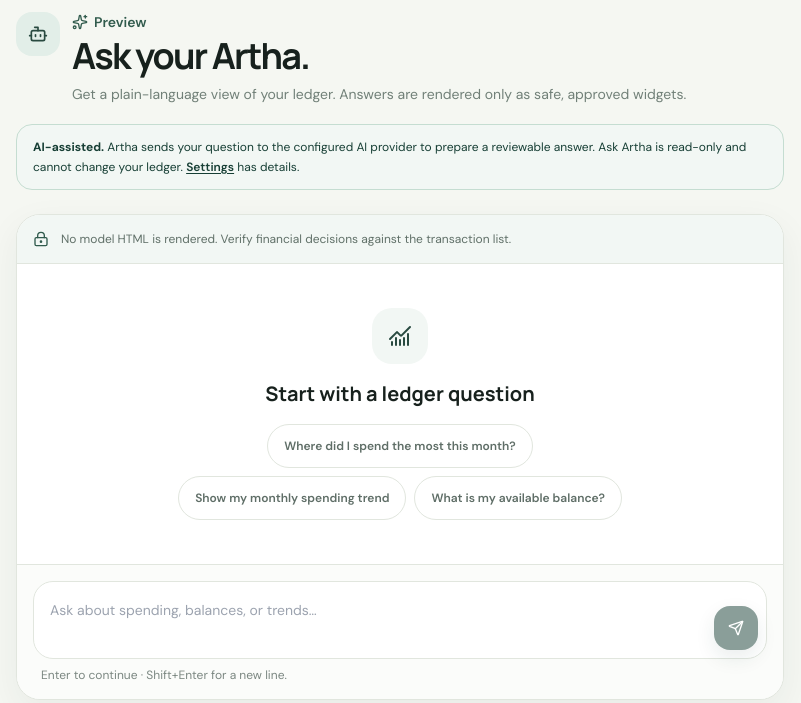
Test: AssistantPage generated UI › renders a chart-specific empty state instead of a broken graph
Type "Show a trend" into the text box named "Ask Artha" at coordinates (374, 620), box [42,590,706,650]
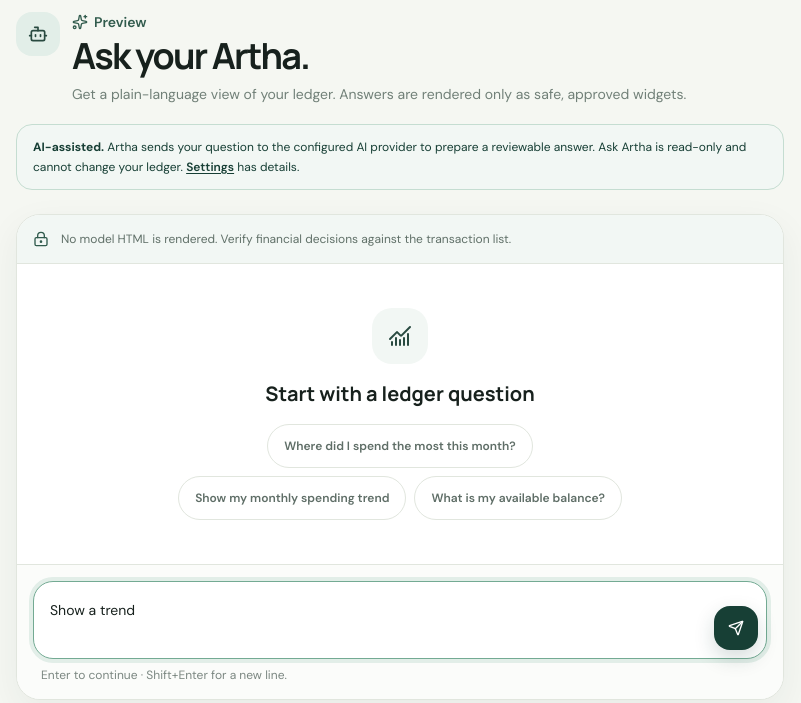
Click the button named "Send question" at coordinates (736, 628), box [714,606,758,650]
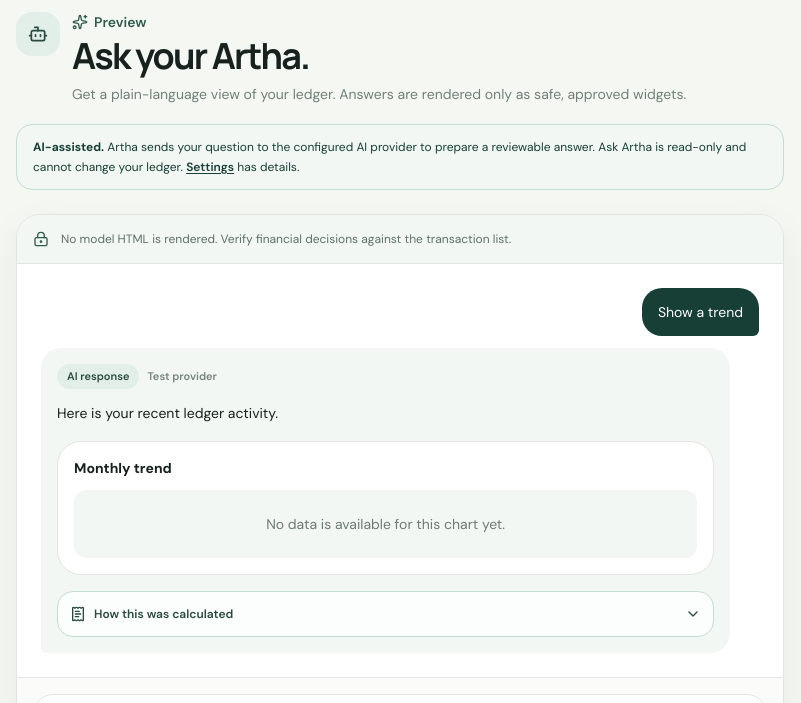
Expected: the text "No data is available for this chart yet." is shown, [74,490,697,558]
